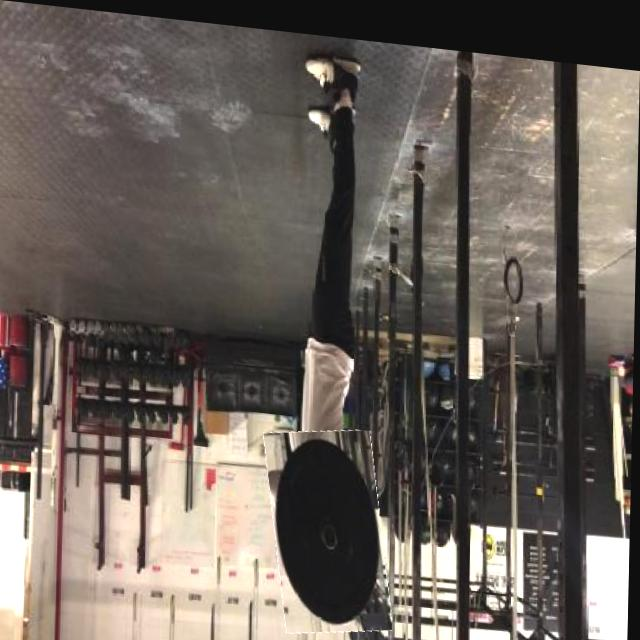barbell: (269, 417, 393, 633)
